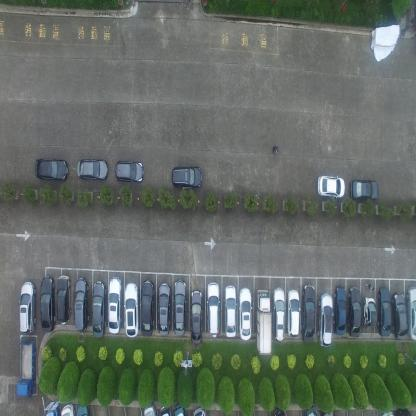car: (16, 338, 37, 397), (255, 288, 272, 356), (19, 278, 37, 333), (40, 275, 56, 333), (316, 292, 332, 348), (124, 282, 140, 337), (34, 157, 69, 182), (92, 280, 107, 338), (171, 162, 202, 190), (391, 290, 408, 340), (74, 277, 89, 333), (76, 157, 109, 182), (108, 276, 122, 334), (206, 280, 220, 338), (301, 284, 315, 342), (316, 173, 345, 200), (141, 278, 154, 338), (189, 289, 203, 344), (157, 281, 171, 336), (238, 287, 252, 342), (272, 287, 286, 342), (346, 285, 361, 336), (173, 278, 186, 336), (115, 158, 144, 184), (350, 177, 379, 202), (57, 274, 72, 322), (224, 284, 237, 339), (286, 289, 300, 340), (377, 286, 391, 336), (333, 285, 346, 334), (406, 284, 416, 342), (362, 294, 377, 328), (44, 400, 61, 416), (60, 402, 76, 415), (77, 401, 91, 415), (304, 401, 318, 415), (143, 402, 157, 415), (173, 403, 186, 415), (159, 404, 173, 415), (192, 405, 206, 415), (272, 405, 286, 415)
